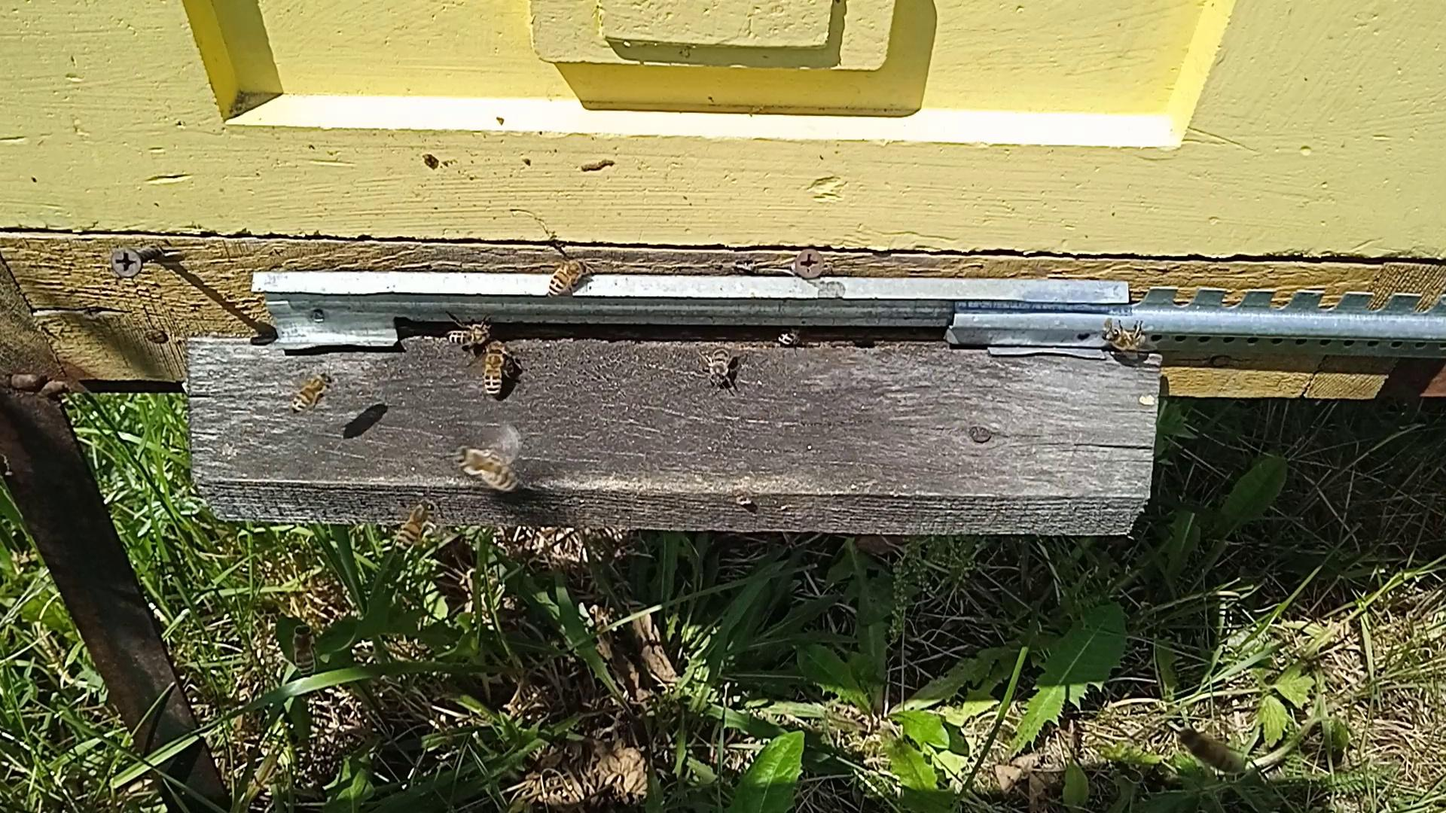worker-bee: (453, 444, 522, 493), (1176, 729, 1247, 776), (393, 497, 441, 548), (290, 371, 335, 414), (479, 341, 511, 398), (1101, 321, 1152, 355), (547, 257, 589, 297), (289, 623, 318, 676), (447, 320, 495, 349), (703, 347, 735, 387), (776, 327, 803, 348)
